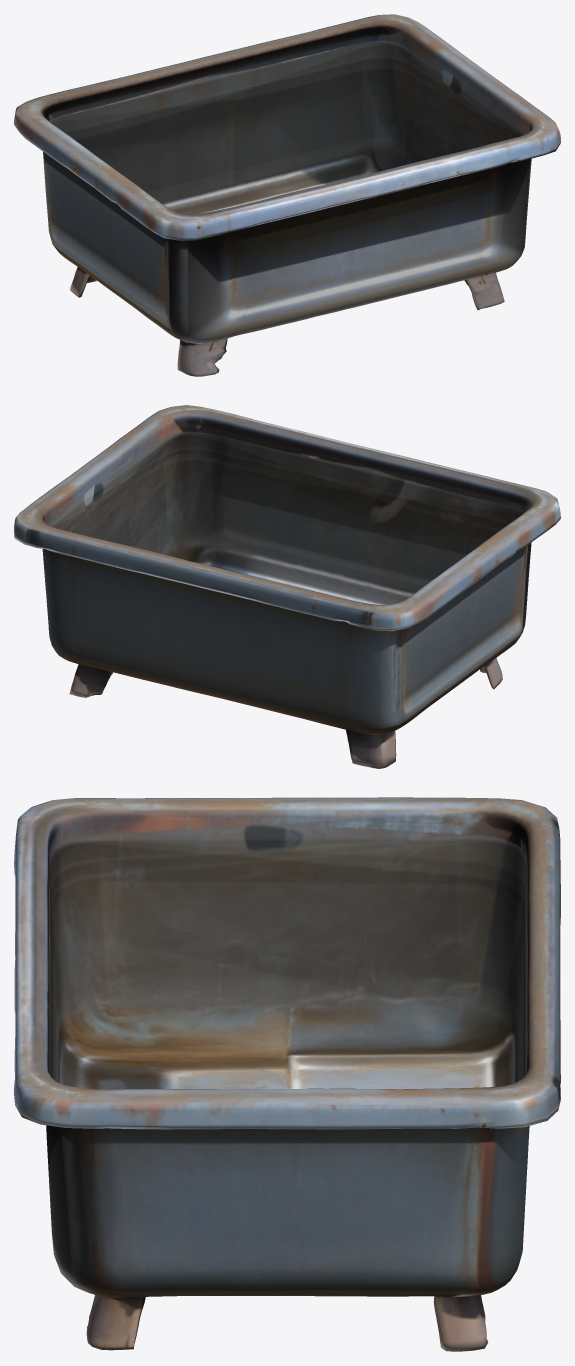
The model's file is metal_trough_1030084335_refine.fbx.
3 renders of one model, top to bottom at view 1: azimuth 30°, elevation 25°; view 2: azimuth 150°, elevation 25°; view 3: azimuth 270°, elevation 25°, orthographic. The views are drawn at different scales.
Parts seen in each view (by area): view 1: Mesh1_Mesh1.033; view 2: Mesh1_Mesh1.033; view 3: Mesh1_Mesh1.033.
Part boxes in pixels (box(x1,y1,x2,y2)): Mesh1_Mesh1.033: box(14, 14, 560, 376); Mesh1_Mesh1.033: box(14, 405, 560, 768); Mesh1_Mesh1.033: box(14, 797, 560, 1351).
Size of the model in its own units: 200 by 84.93 by 149.
1 material, 1 textured.
